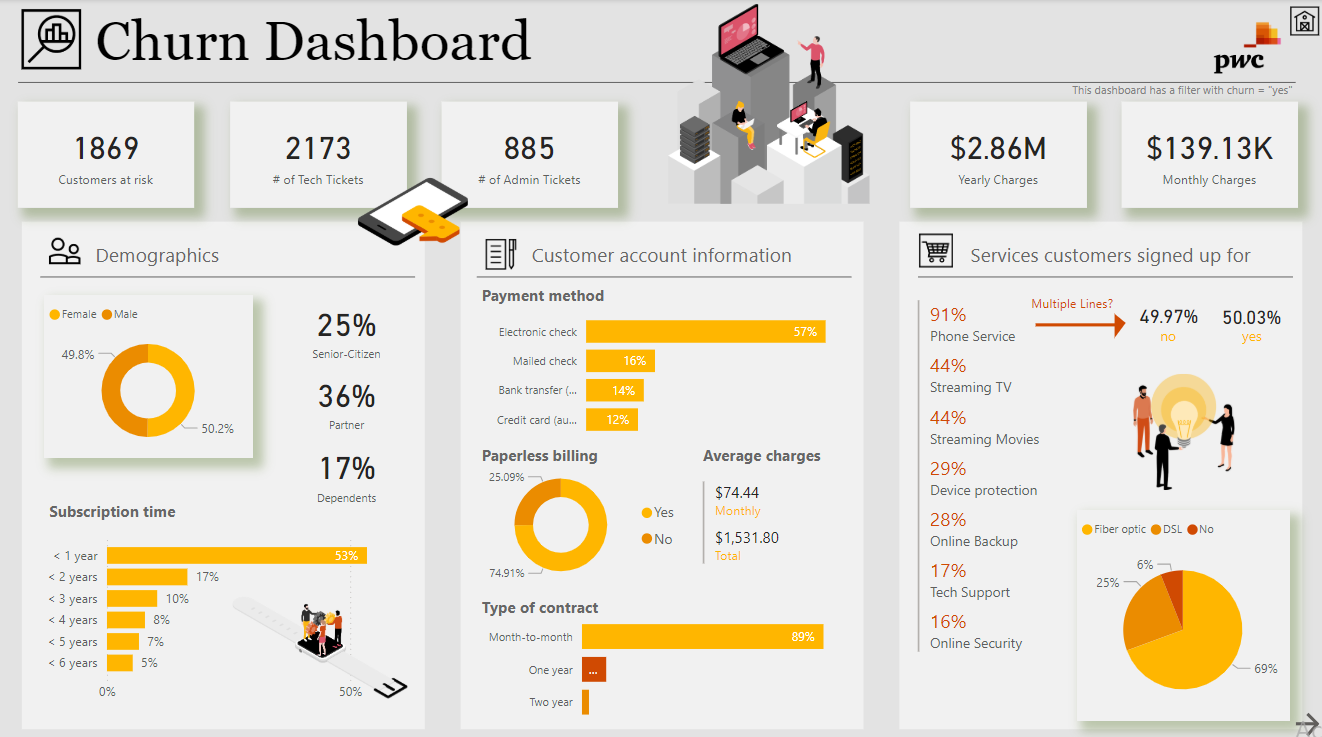

Layout of this report page (visuals, bound fields, positions):
{"tool":"powerbi","page":{"name":"Churn","canvas":[1280,720],"ordinal":1},"visuals":[{"type":"textbox","box":[87.7,4.9,1173.8,75],"z":0},{"type":"basicShape","box":[8.7,60.7,1253,40.5],"z":1000},{"type":"basicShape","box":[18.3,210,396.8,499.9],"z":2000},{"type":"card","fields":{"Values":["CountNonNull(churn.customerID)"]},"box":[18.5,99.4,170,102.3],"z":3000},{"type":"basicShape","box":[441.6,210,396.8,499.9],"z":4000},{"type":"basicShape","box":[864.9,210,396.8,499.9],"z":5000},{"type":"textbox","box":[508.5,228.6,314.9,35.6],"z":6000},{"type":"basicShape","box":[450.7,248.9,381.4,39.5],"z":7000},{"type":"image","box":[461.3,226.3,47.2,39.5],"z":8000},{"type":"textbox","box":[932.7,228.6,314.9,35.6],"z":9000},{"type":"basicShape","box":[877.4,248.9,381.4,39.5],"z":10000},{"type":"textbox","box":[88,228.6,314.9,35.6],"z":11000},{"type":"basicShape","box":[30.2,248.9,381.4,39.5],"z":12000},{"type":"image","box":[883.2,220.6,42.4,43.3],"z":13000},{"type":"image","box":[43.3,220.6,40.5,44.3],"z":14000},{"type":"donutChart","fields":{"Category":["churn.gender"],"Y":["CountNonNull(churn.gender)"]},"box":[43.8,286,201.3,156.6],"z":15000},{"type":"card","fields":{"Values":["churn.SeniorCitizen in %"]},"box":[271.4,268.7,128.1,100.2],"z":16000},{"type":"card","fields":{"Values":["churn.Partner in %"]},"box":[271.4,338.1,128.4,100.2],"z":17000},{"type":"card","fields":{"Values":["churn.Dependents in %"]},"box":[271.4,407.5,128.4,100.2],"z":18000},{"type":"clusteredBarChart","fields":{"Category":["churn.Contract"],"Y":["CountNonNull(churn.Contract)"]},"box":[461.3,577.9,370.8,131.9],"z":19000},{"type":"clusteredBarChart","fields":{"Y":["CountNonNull(churn.PaymentMethod)"],"Category":["churn.PaymentMethod"]},"box":[461.3,286,370.8,148.3],"z":20000},{"type":"textbox","box":[461.3,269.7,314.9,35.6],"z":21000},{"type":"textbox","box":[461.3,424.7,204.2,35.6],"z":22000},{"type":"donutChart","fields":{"Category":["churn.PaperlessBilling"],"Y":["CountNonNull(churn.PaperlessBilling)"]},"box":[461.3,438.2,204.2,139.7],"z":23000},{"type":"multiRowCard","fields":{"Values":["Avg(churn.MonthlyCharges)","Avg(churn.TotalCharges)"]},"box":[674.2,460.4,149.3,95.3],"z":24000},{"type":"textbox","box":[461.3,572.1,314.9,35.6],"z":25000},{"type":"pieChart","fields":{"Category":["churn.InternetService"],"Y":["Divide(CountNonNull(churn.InternetService), ScopedEval(CountNonNull(churn.InternetService), []))"]},"box":[1040.4,492.9,205.5,203.6],"z":26000},{"type":"card","fields":{"Values":["churn.Multiple Lines in %"]},"box":[1172.8,276.4,72.2,62.6],"z":27000},{"type":"card","fields":{"Values":["churn.Multiple lines no in %"]},"box":[1093.1,276.4,72.2,61.6],"z":28000},{"type":"textbox","box":[971.7,278.2,129.4,27.2],"z":29000},{"type":"textbox","box":[1092.2,311,73.2,35.6],"z":30000},{"type":"textbox","box":[1172.8,311,73.2,35.6],"z":31000},{"type":"textbox","box":[674.2,424.7,148.3,35.6],"z":32000},{"type":"multiRowCard","fields":{"Values":["churn.Phone Service in %","churn.Streaming TV in %","churn.Streaming Movies in %","churn.Device protection in %","churn.Online Bacup in %","churn.Tech Support in %","churn.Online Sec. in %"]},"box":[882.2,286,165.3,414.3],"z":33000},{"type":"basicShape","box":[990.2,300.5,97.3,28.2],"z":34000},{"type":"basicShape","box":[1063.1,296.7,37.9,32.1],"z":35000},{"type":"clusteredBarChart","fields":{"Y":["CountNonNull(churn.Churn)"],"Category":["churn.Loyalty"]},"box":[37,507.7,365.7,179],"z":36000},{"type":"textbox","box":[43.8,478.5,314.2,35],"z":37000},{"type":"image","box":[1048.2,356.5,190.9,121.8],"z":38000},{"type":"actionButton","box":[1246.1,680.1,31.6,39.5],"z":39000},{"type":"image","box":[16.6,4.9,67.2,68.2],"z":40000},{"type":"card","fields":{"Values":["Sum(churn.MonthlyCharges)"]},"box":[1083.9,99.4,170,102.3],"z":41000},{"type":"image","box":[634.9,0,216.9,202.2],"z":42000},{"type":"image","box":[221.1,556.2,178.3,139.3],"z":43000},{"type":"card","fields":{"Values":["Sum(churn.numTechTickets)"]},"box":[222.8,99.4,170,102.3],"z":44000},{"type":"card","fields":{"Values":["Sum(churn.numAdminTickets)"]},"box":[427.1,99.4,170,102.3],"z":45000},{"type":"card","fields":{"Values":["Sum(churn.TotalCharges)"]},"box":[879.7,99.4,170,102.3],"z":46000},{"type":"textbox","box":[897,72.3,355.9,30.5],"z":47000},{"type":"image","box":[341.9,151,115.9,108.1],"z":48000},{"type":"image","box":[1242,0,38,42.9],"z":49000},{"type":"image","box":[1129,0,151,94.5],"z":50000}]}

Visuals, with their boxes in screenshot pixels (x1, y1, x2, y2), scaled from the page's 1280x720 canvas onto the 1322x737 screenshot:
textbox: select_region(91, 5, 1303, 82)
basicShape: select_region(9, 62, 1303, 104)
basicShape: select_region(19, 215, 429, 727)
card - CountNonNull(churn.customerID): select_region(19, 102, 195, 206)
basicShape: select_region(456, 215, 866, 727)
basicShape: select_region(893, 215, 1303, 727)
textbox: select_region(525, 234, 850, 270)
basicShape: select_region(465, 255, 859, 295)
image: select_region(476, 232, 525, 272)
textbox: select_region(963, 234, 1289, 270)
basicShape: select_region(906, 255, 1300, 295)
textbox: select_region(91, 234, 416, 270)
basicShape: select_region(31, 255, 425, 295)
image: select_region(912, 226, 956, 270)
image: select_region(45, 226, 87, 271)
donutChart - churn.gender x CountNonNull(churn.gender): select_region(45, 293, 253, 453)
card - churn.SeniorCitizen in %: select_region(280, 275, 413, 378)
card - churn.Partner in %: select_region(280, 346, 413, 449)
card - churn.Dependents in %: select_region(280, 417, 413, 520)
clusteredBarChart - churn.Contract x CountNonNull(churn.Contract): select_region(476, 592, 859, 727)
clusteredBarChart - CountNonNull(churn.PaymentMethod) x churn.PaymentMethod: select_region(476, 293, 859, 445)
textbox: select_region(476, 276, 802, 313)
textbox: select_region(476, 435, 687, 471)
donutChart - churn.PaperlessBilling x CountNonNull(churn.PaperlessBilling): select_region(476, 449, 687, 592)
multiRowCard - Avg(churn.MonthlyCharges) x Avg(churn.TotalCharges): select_region(696, 471, 851, 569)
textbox: select_region(476, 586, 802, 622)
pieChart - churn.InternetService x Divide(CountNonNull(churn.InternetService), ScopedEval(CountNonNull(churn.InternetService), [])): select_region(1075, 505, 1287, 713)
card - churn.Multiple Lines in %: select_region(1211, 283, 1286, 347)
card - churn.Multiple lines no in %: select_region(1129, 283, 1204, 346)
textbox: select_region(1004, 285, 1137, 313)
textbox: select_region(1128, 318, 1204, 355)
textbox: select_region(1211, 318, 1287, 355)
textbox: select_region(696, 435, 849, 471)
multiRowCard - churn.Phone Service in % x churn.Streaming TV in %: select_region(911, 293, 1082, 717)
basicShape: select_region(1023, 308, 1123, 336)
basicShape: select_region(1098, 304, 1137, 337)
clusteredBarChart - CountNonNull(churn.Churn) x churn.Loyalty: select_region(38, 520, 416, 703)
textbox: select_region(45, 490, 370, 526)
image: select_region(1083, 365, 1280, 490)
actionButton: select_region(1287, 696, 1320, 736)
image: select_region(17, 5, 87, 75)
card - Sum(churn.MonthlyCharges): select_region(1119, 102, 1295, 206)
image: select_region(656, 0, 880, 207)
image: select_region(228, 569, 413, 712)
card - Sum(churn.numTechTickets): select_region(230, 102, 406, 206)
card - Sum(churn.numAdminTickets): select_region(441, 102, 617, 206)
card - Sum(churn.TotalCharges): select_region(909, 102, 1084, 206)
textbox: select_region(926, 74, 1294, 105)
image: select_region(353, 155, 473, 265)
image: select_region(1283, 0, 1321, 44)
image: select_region(1166, 0, 1321, 97)
